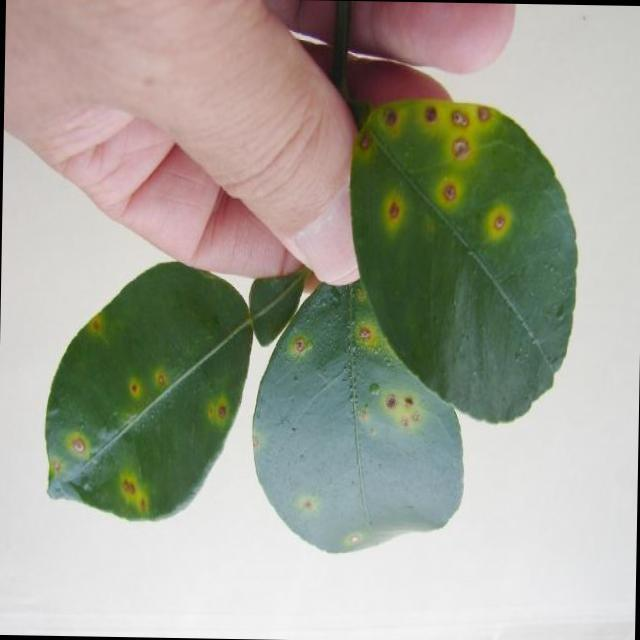Bacterial Spot: (359, 97, 523, 300), (51, 362, 238, 501), (286, 322, 431, 442)
